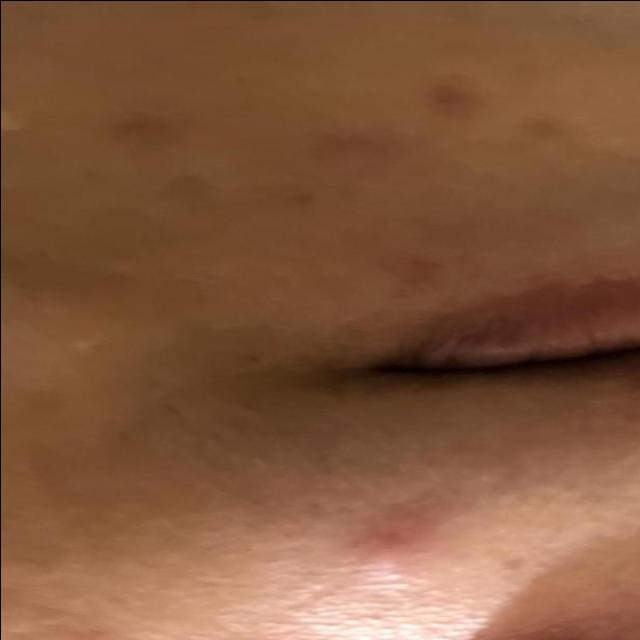papule: (269, 488, 478, 600)
